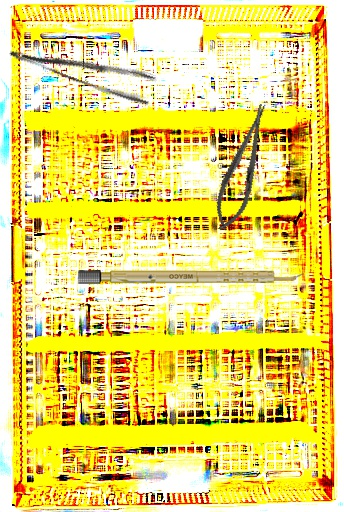Dressing Forceps: (7, 25, 159, 109)
Needle Holder: (206, 99, 280, 236)
Scalpel Handle: (77, 270, 304, 284)
